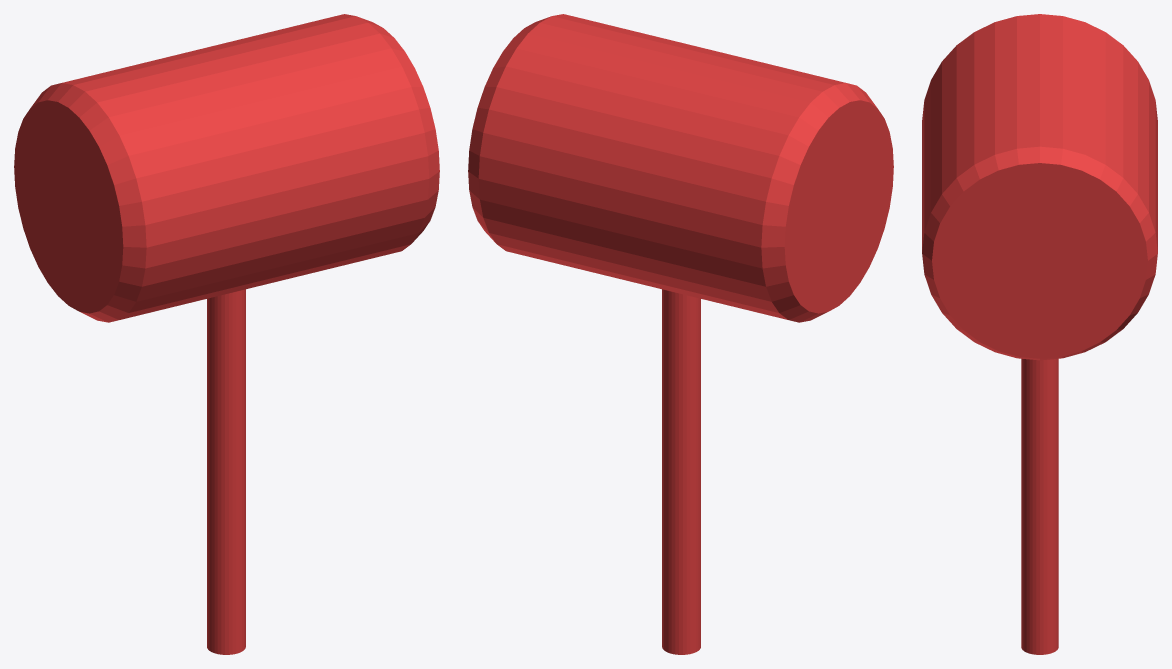
Rendered from Hammer.fbx.
3 views of the same model, side by side, from view 1: azimuth 30°, elevation 25°; view 2: azimuth 150°, elevation 25°; view 3: azimuth 270°, elevation 25° (orthographic). The views are drawn at different scales.
Parts seen in each view (by area): view 1: Cylinder; view 2: Cylinder; view 3: Cylinder.
Boxes of the visible parts, <box> form: Cylinder: <box>14,14,439,654</box>; Cylinder: <box>468,14,893,654</box>; Cylinder: <box>922,14,1157,654</box>.
Size of what is drawn, in the model's own units: 526 by 941 by 355.
